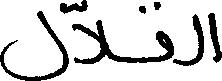X: (0, 0, 69, 80), (74, 0, 103, 68), (157, 0, 172, 66), (210, 8, 221, 67), (192, 9, 201, 69)
